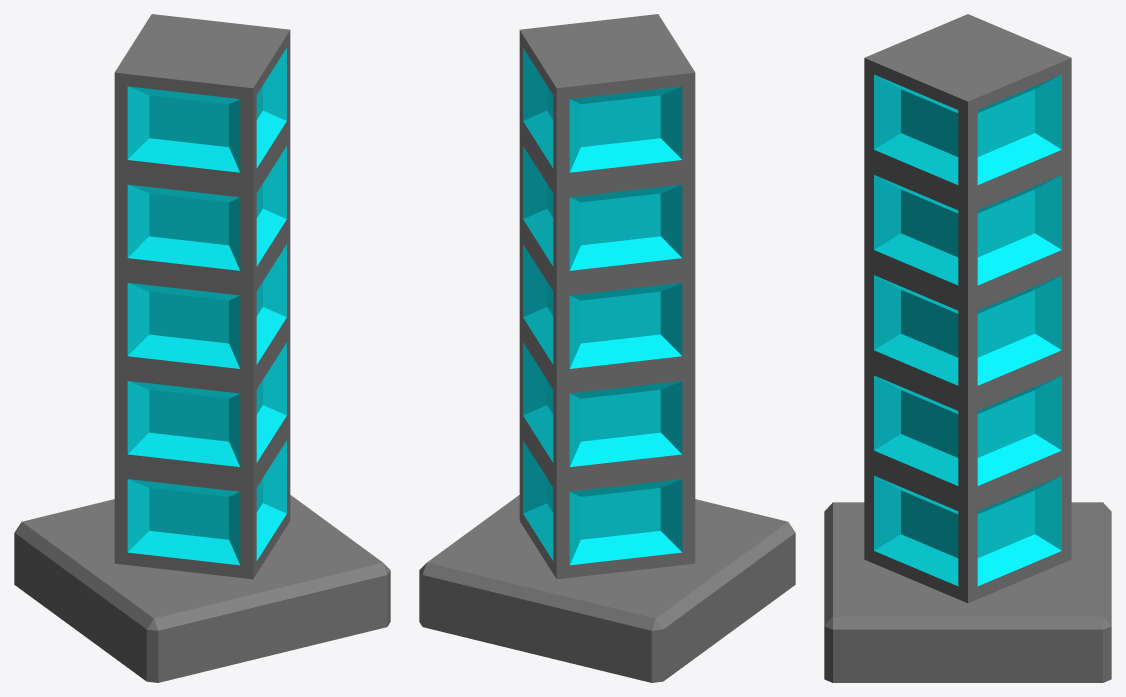
File: Light_2.fbx
The picture shows the model from 3 angles, left to right: view 1: azimuth 30°, elevation 25°; view 2: azimuth 150°, elevation 25°; view 3: azimuth 270°, elevation 25°; orthographic projection. The views are drawn at different scales.
Visible parts, largest first — view 1: Light_2; view 2: Light_2; view 3: Light_2.
Part boxes in pixels (bbox=[...]): Light_2: bbox=[14, 14, 390, 682]; Light_2: bbox=[419, 14, 795, 682]; Light_2: bbox=[824, 14, 1111, 682].
Bounding box in the file's own units: 0.4158 × 0.4158 × 0.9004.
